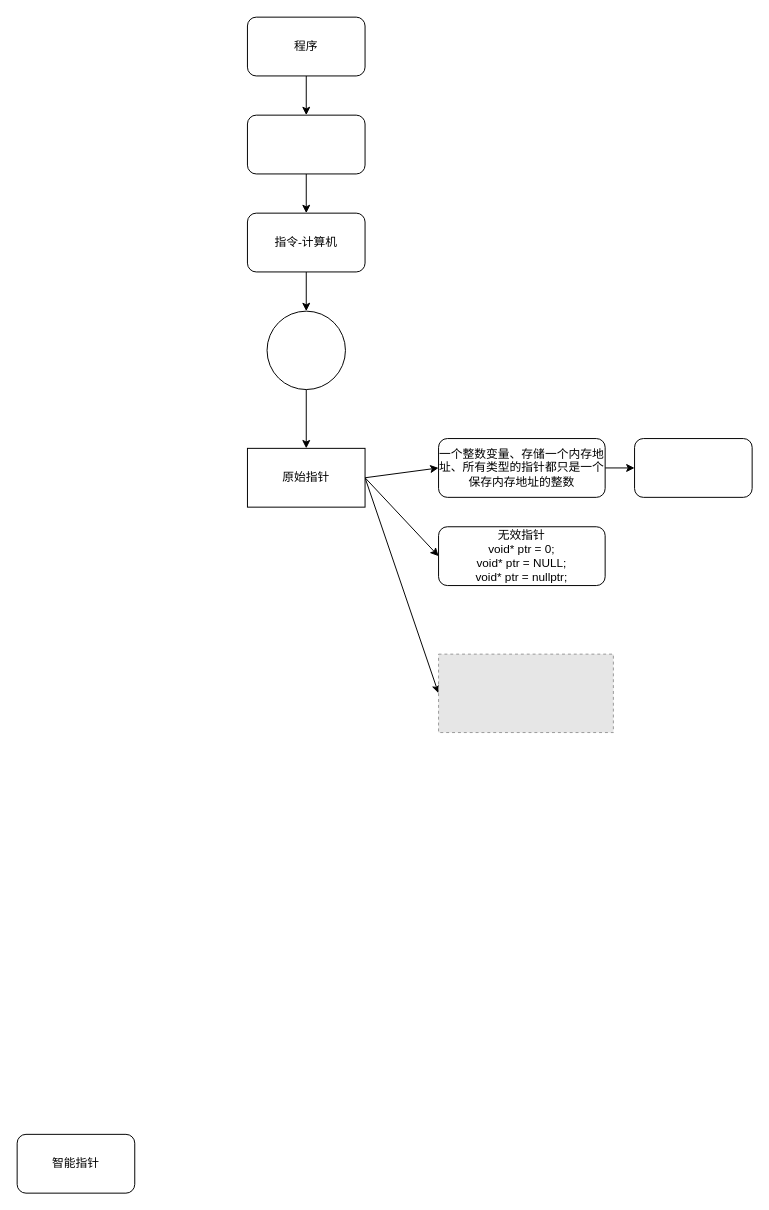
This 769x1210 diagram has some shape labels left out. Grey dashed boxes stand in for pictures. Each missing label, with the box of its shape:
CPU: (266, 310, 345, 390)
内存: (246, 114, 365, 174)
管理和操作内存: (634, 438, 752, 497)
